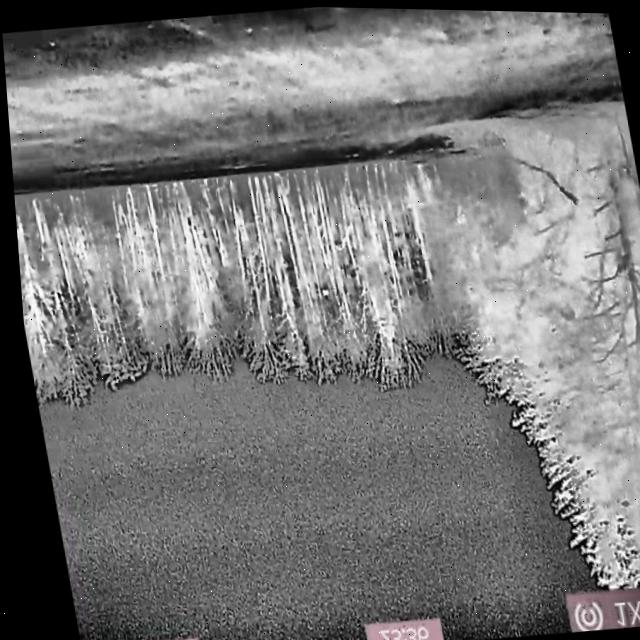drone: (316, 286, 325, 295)
